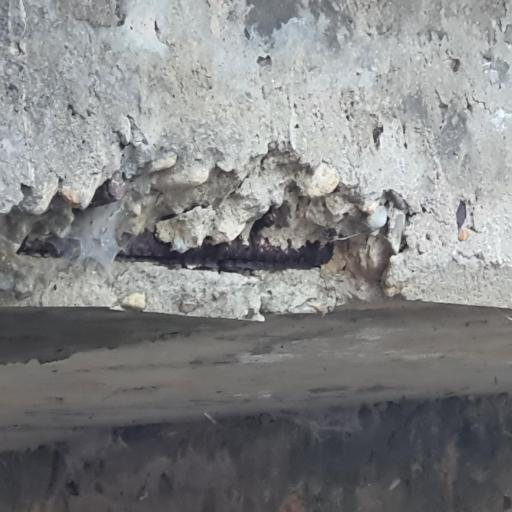exposed_rebar: (116, 203, 334, 269)
spalling: (0, 117, 410, 320)
